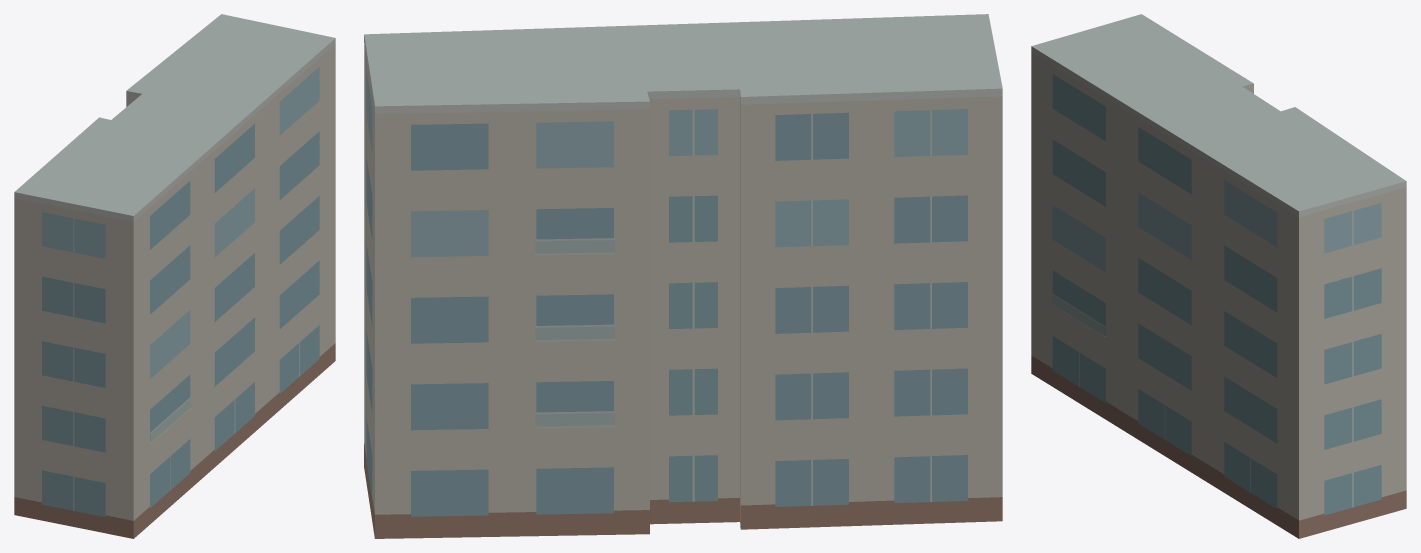
The model's file is survey-upis-32989678.glb.
3 renders of one model, left to right at view 1: azimuth 30°, elevation 25°; view 2: azimuth 150°, elevation 25°; view 3: azimuth 270°, elevation 25°, orthographic. The views are drawn at different scales.
Visible parts, largest first — view 1: survey-upis-32989678.tmp; view 2: survey-upis-32989678.tmp; view 3: survey-upis-32989678.tmp.
Boxes of the visible parts, x1,y1,x2,y2 form: survey-upis-32989678.tmp: [14, 14, 335, 538]; survey-upis-32989678.tmp: [364, 14, 1002, 538]; survey-upis-32989678.tmp: [1031, 14, 1406, 538].
Bounding box in the file's own units: 17.86 × 13.8 × 14.34.
